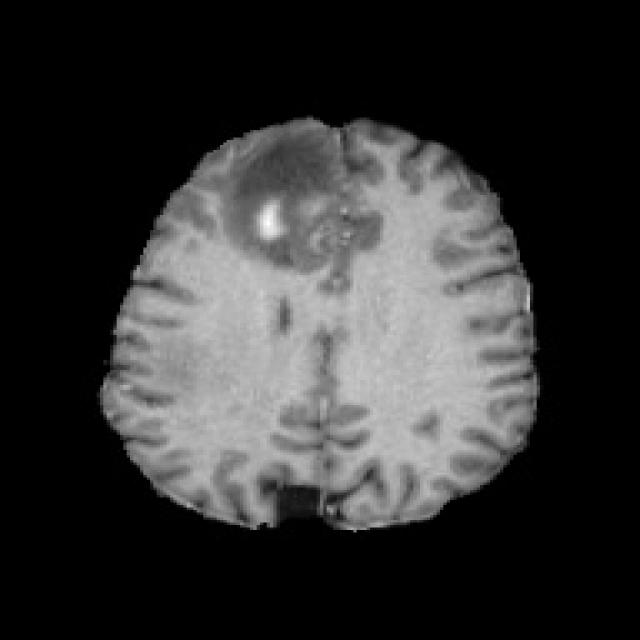positive: (250, 194, 293, 244)
